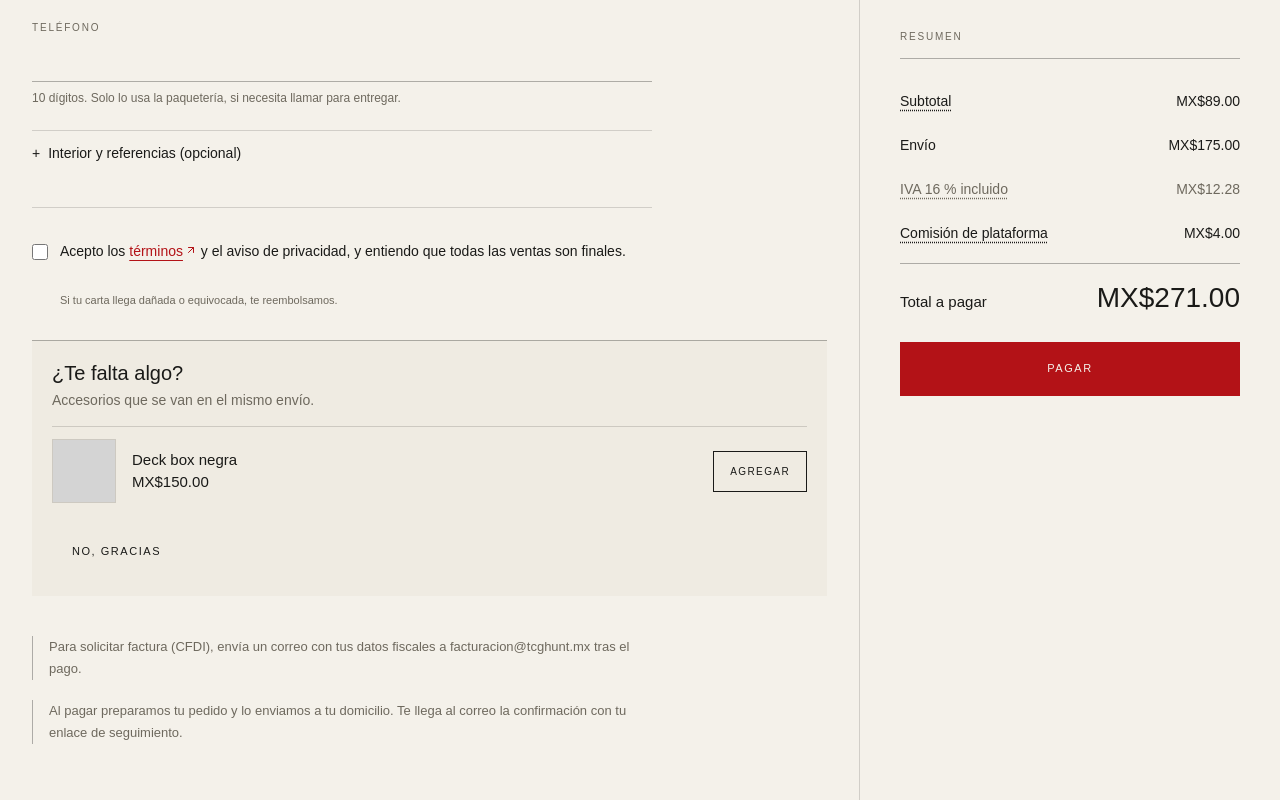
Scenario: AC-UX-5 (AC-F4) · «¿Te falta algo?» › no es modal, vive en la columna de renglones (no en el resumen), «Agregar» suma 1 y «No, gracias» lo oculta
(page scrolled)
What coordinates should you click on to do the following:
click the button with aria-label "Agregar Deck box negra al carrito"
I would click on:
 (760, 471)
Its box is [713,451,807,492].
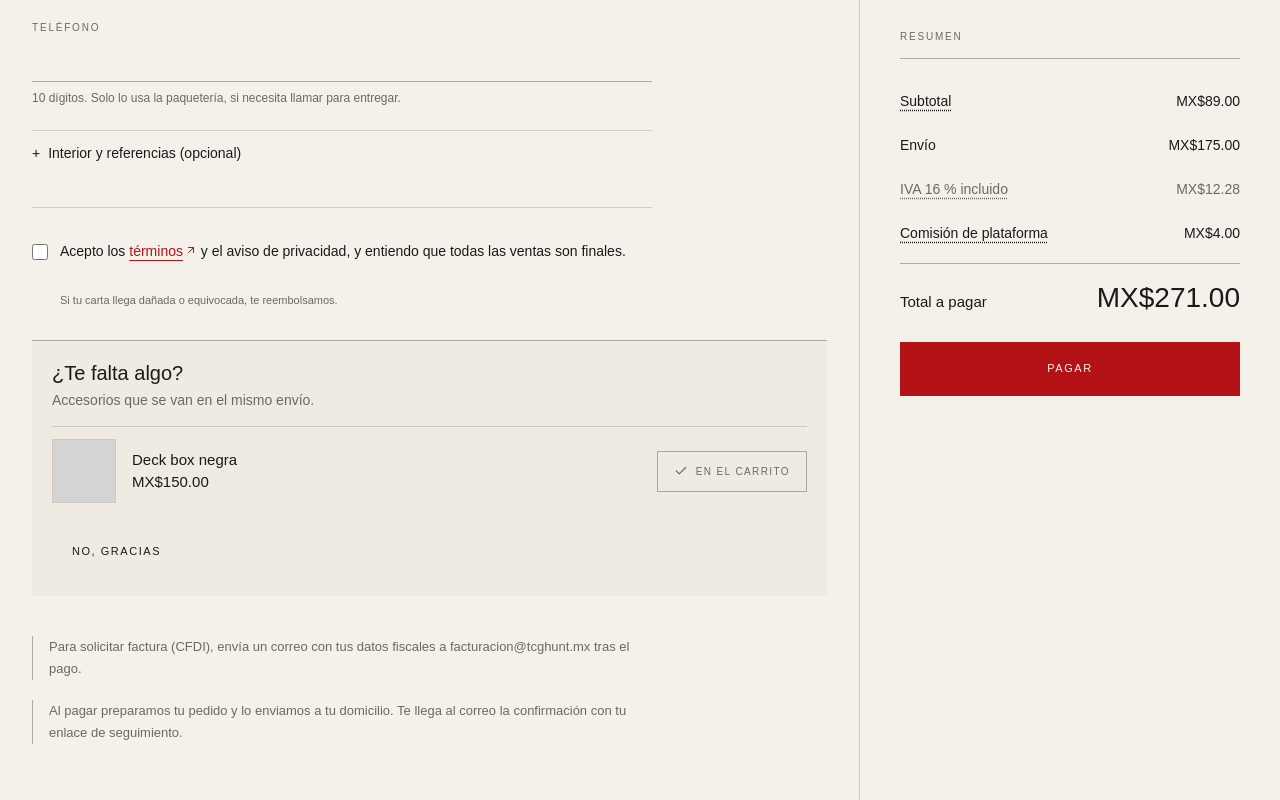
Expected: the button "En el carrito" is disabled, [657,451,807,492]
What coordinates should you click on to do the following:
click the button "No, gracias"
I would click on:
 (117, 552)
Its box is [52,527,181,576].
(page scrolled)
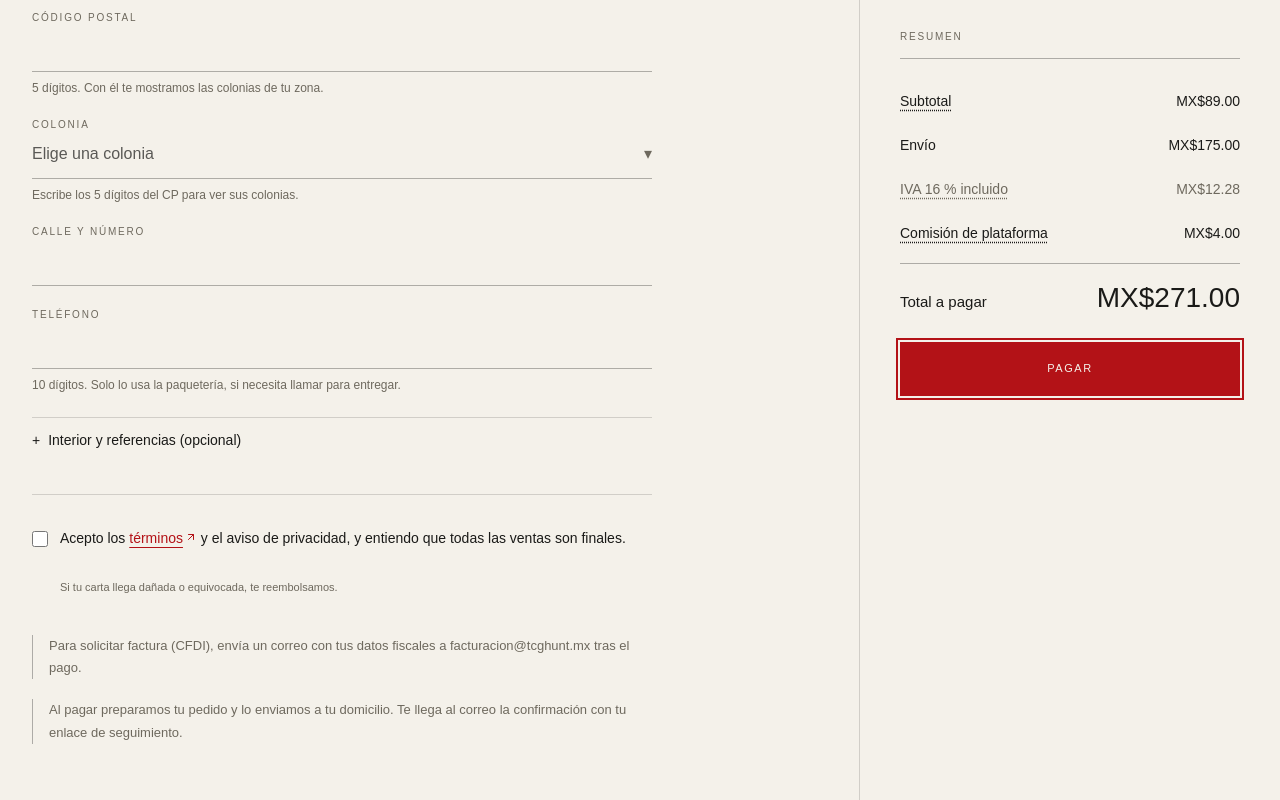
Expected: the heading "¿Te falta algo?" is gone
